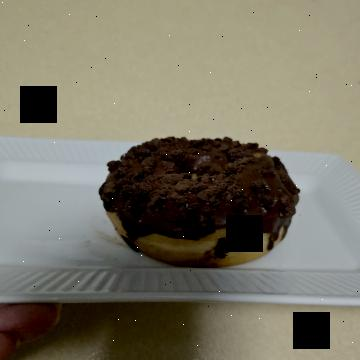doughnut: (129, 59, 293, 287)
